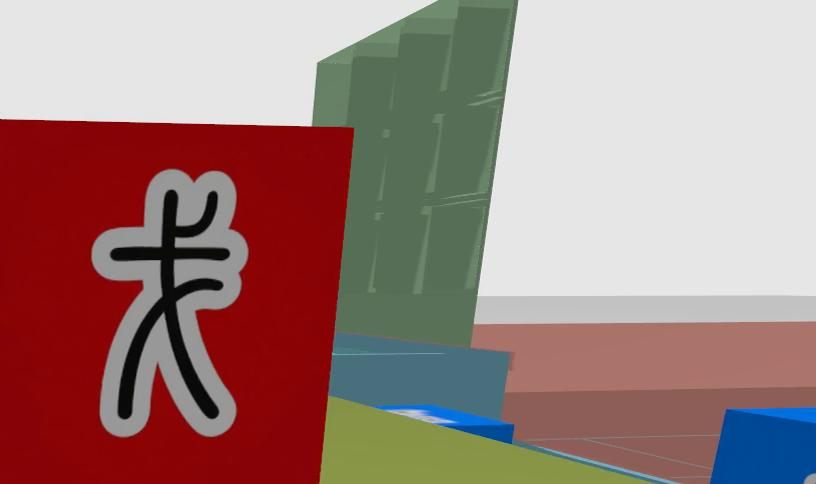KFS_FAKE: (0, 120, 351, 484), (92, 170, 247, 437)
KFS_REAL: (709, 407, 815, 484)
